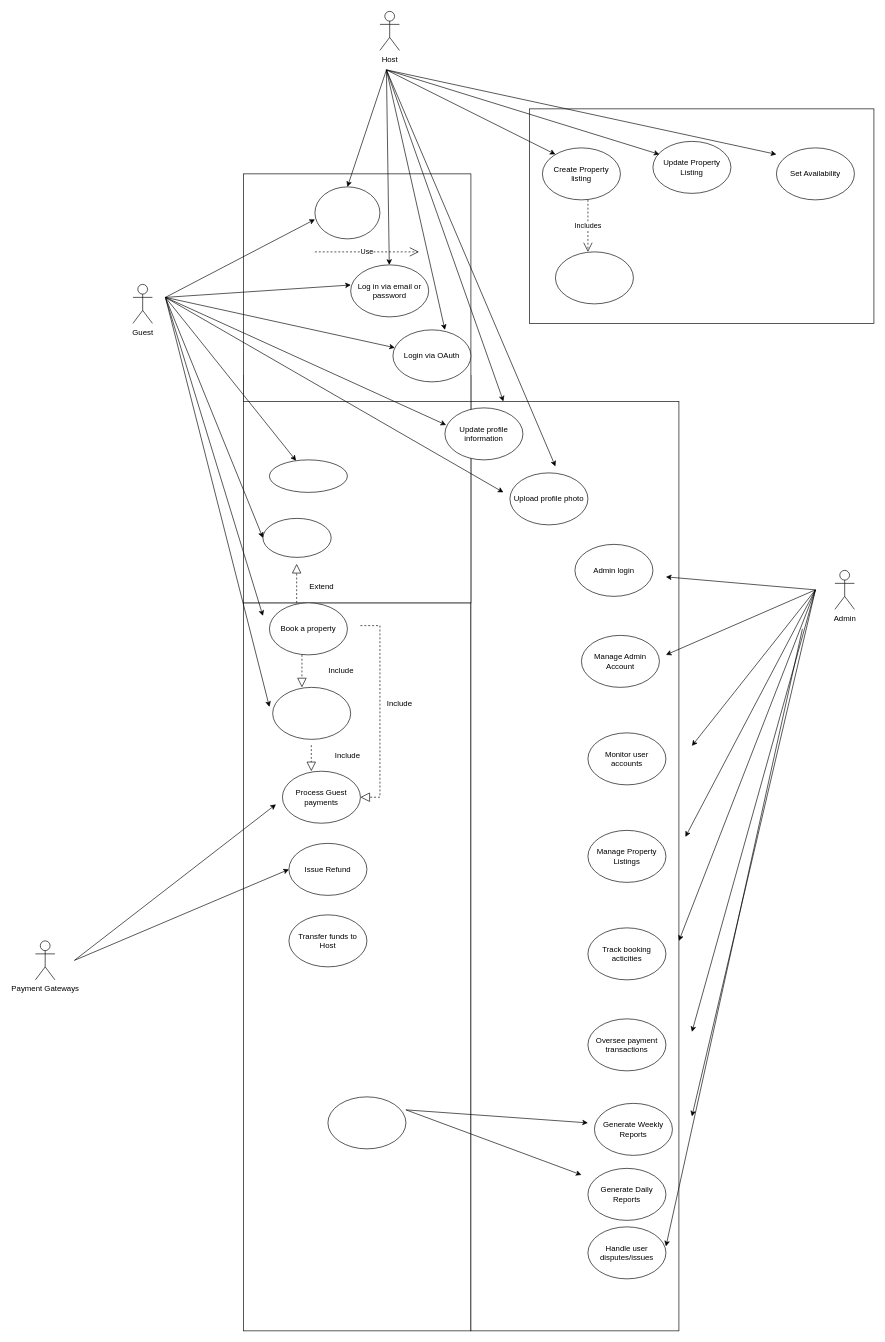
This 885x1342 diagram has some shape labels left out. Here are the shapes that lost their labels. From the top down, the centre of each, then its label:
point (347, 212): Register
point (594, 277): Define pricing
point (308, 475): Search properties
point (296, 537): Leave review
point (311, 713): Make payment
point (366, 1122): Generate Reports
